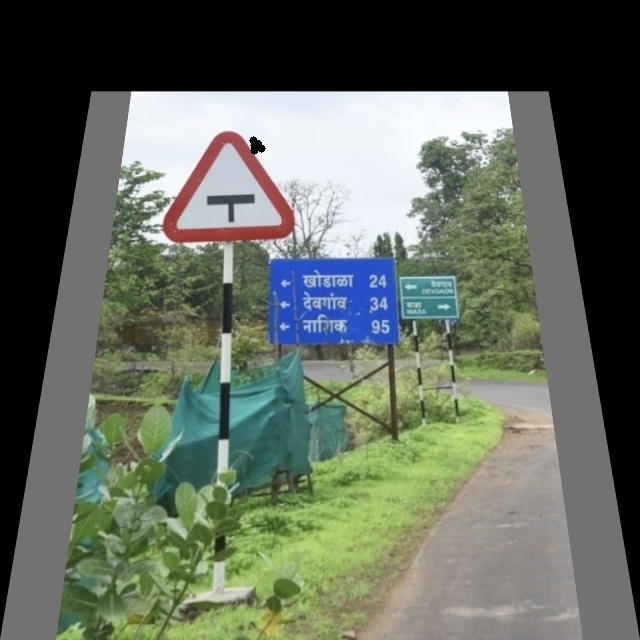T_Intersection: (160, 134, 299, 239)
